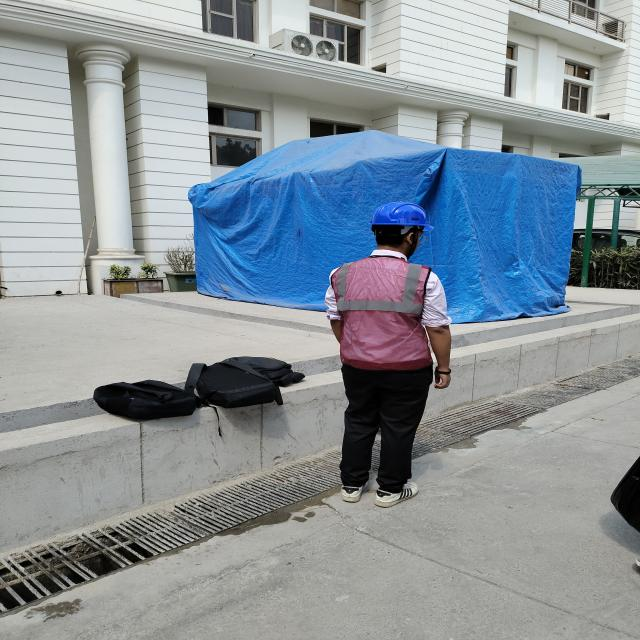safe: (329, 201, 452, 502)
